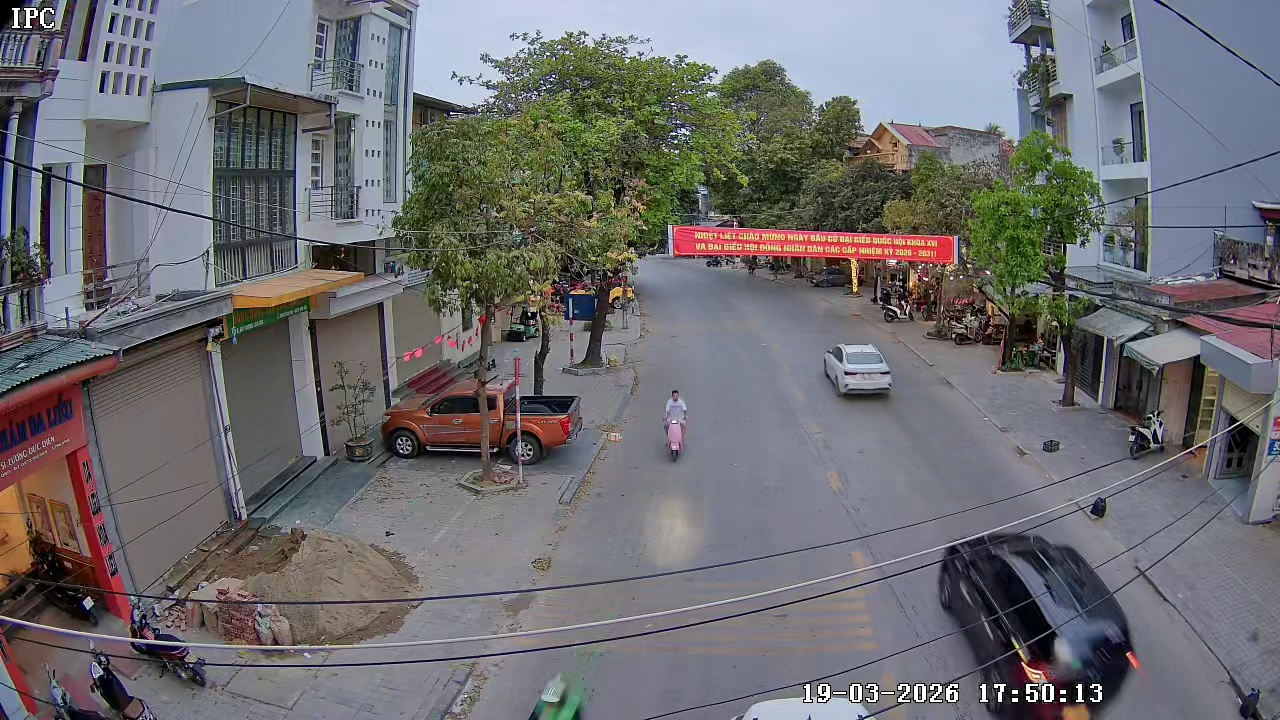car: (936, 518, 1141, 719), (824, 341, 893, 399)
motorbike: (660, 387, 690, 463)
truck: (379, 372, 584, 461)
